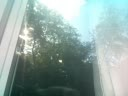window: (8, 45, 70, 96), (76, 61, 103, 76)
